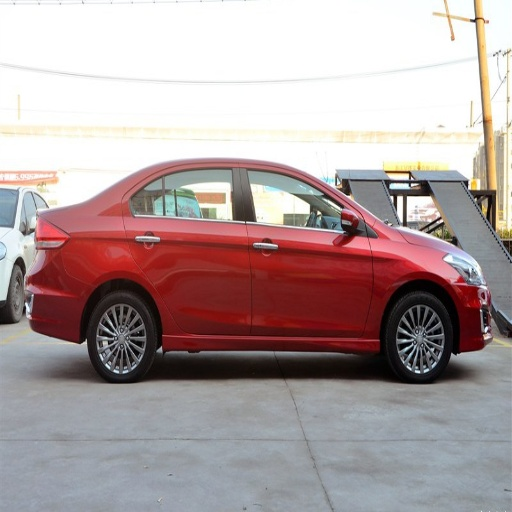back_right_door: (125, 163, 249, 336)
front_right_door: (243, 163, 372, 335)
